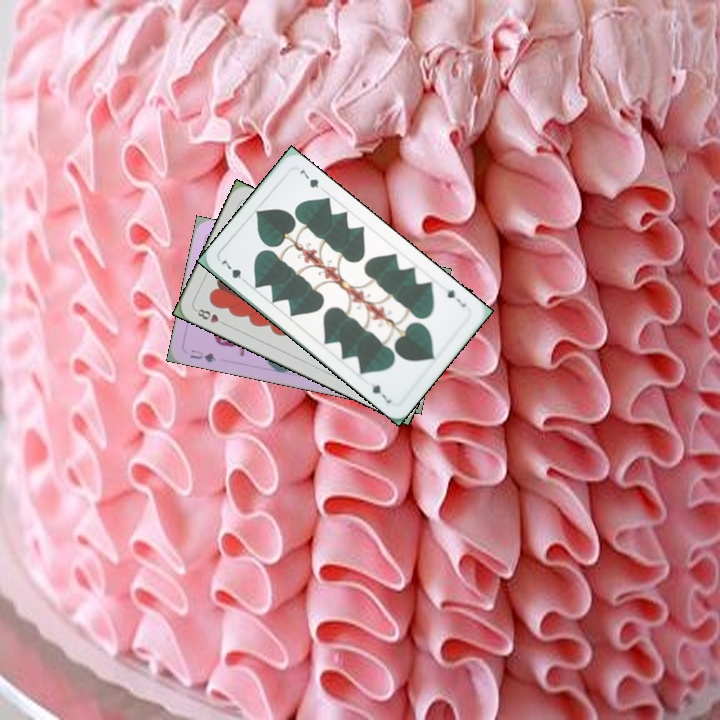G7: (217, 254, 251, 286), (440, 282, 469, 310)
GU: (186, 345, 218, 365)
H8: (191, 304, 229, 328)
